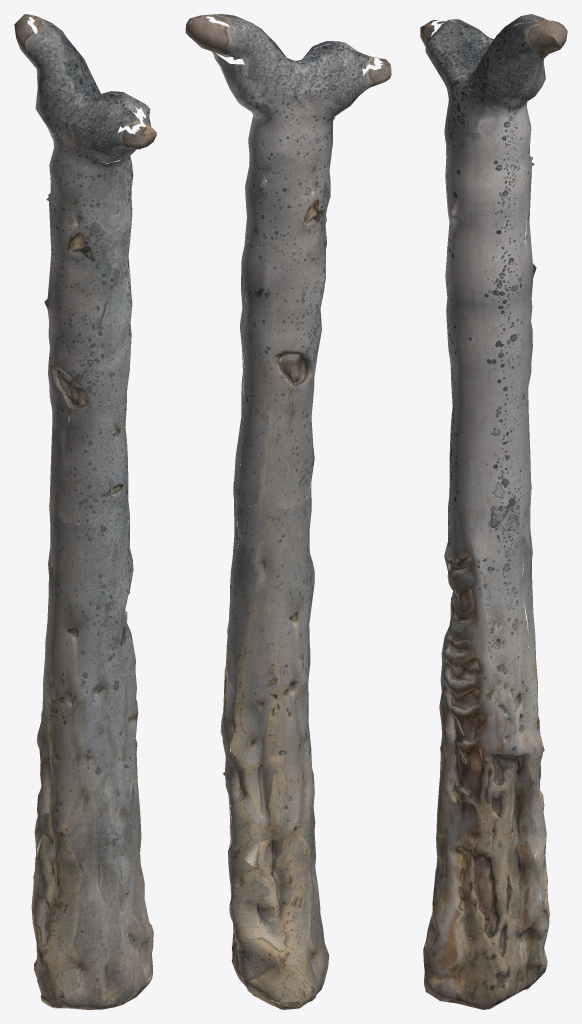
File: ph_dead_quiver_trunk.glb
3 views of the same model, side by side, from view 1: azimuth 90°, elevation 25°; view 2: azimuth 150°, elevation 25°; view 3: azimuth 270°, elevation 25° (orthographic). The views are drawn at different scales.
Visible parts, largest first — view 1: Hero; view 2: Hero; view 3: Hero.
Boxes of the visible parts, left/top/right/bottom form: Hero: left=14, top=14, right=156, bottom=1009; Hero: left=185, top=14, right=391, bottom=1009; Hero: left=420, top=14, right=567, bottom=1009.
Bounding box in the file's own units: 0.1536 × 1 × 0.1341.
1 material, 1 textured.
